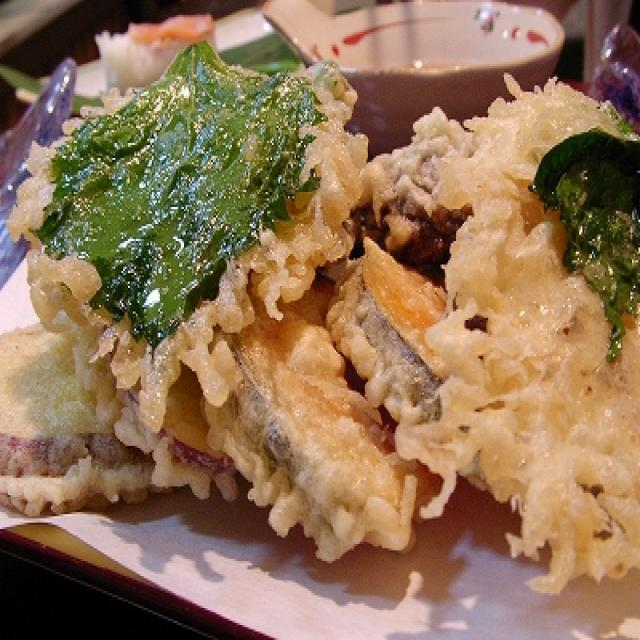蔬菜料理: (0, 60, 640, 593)
